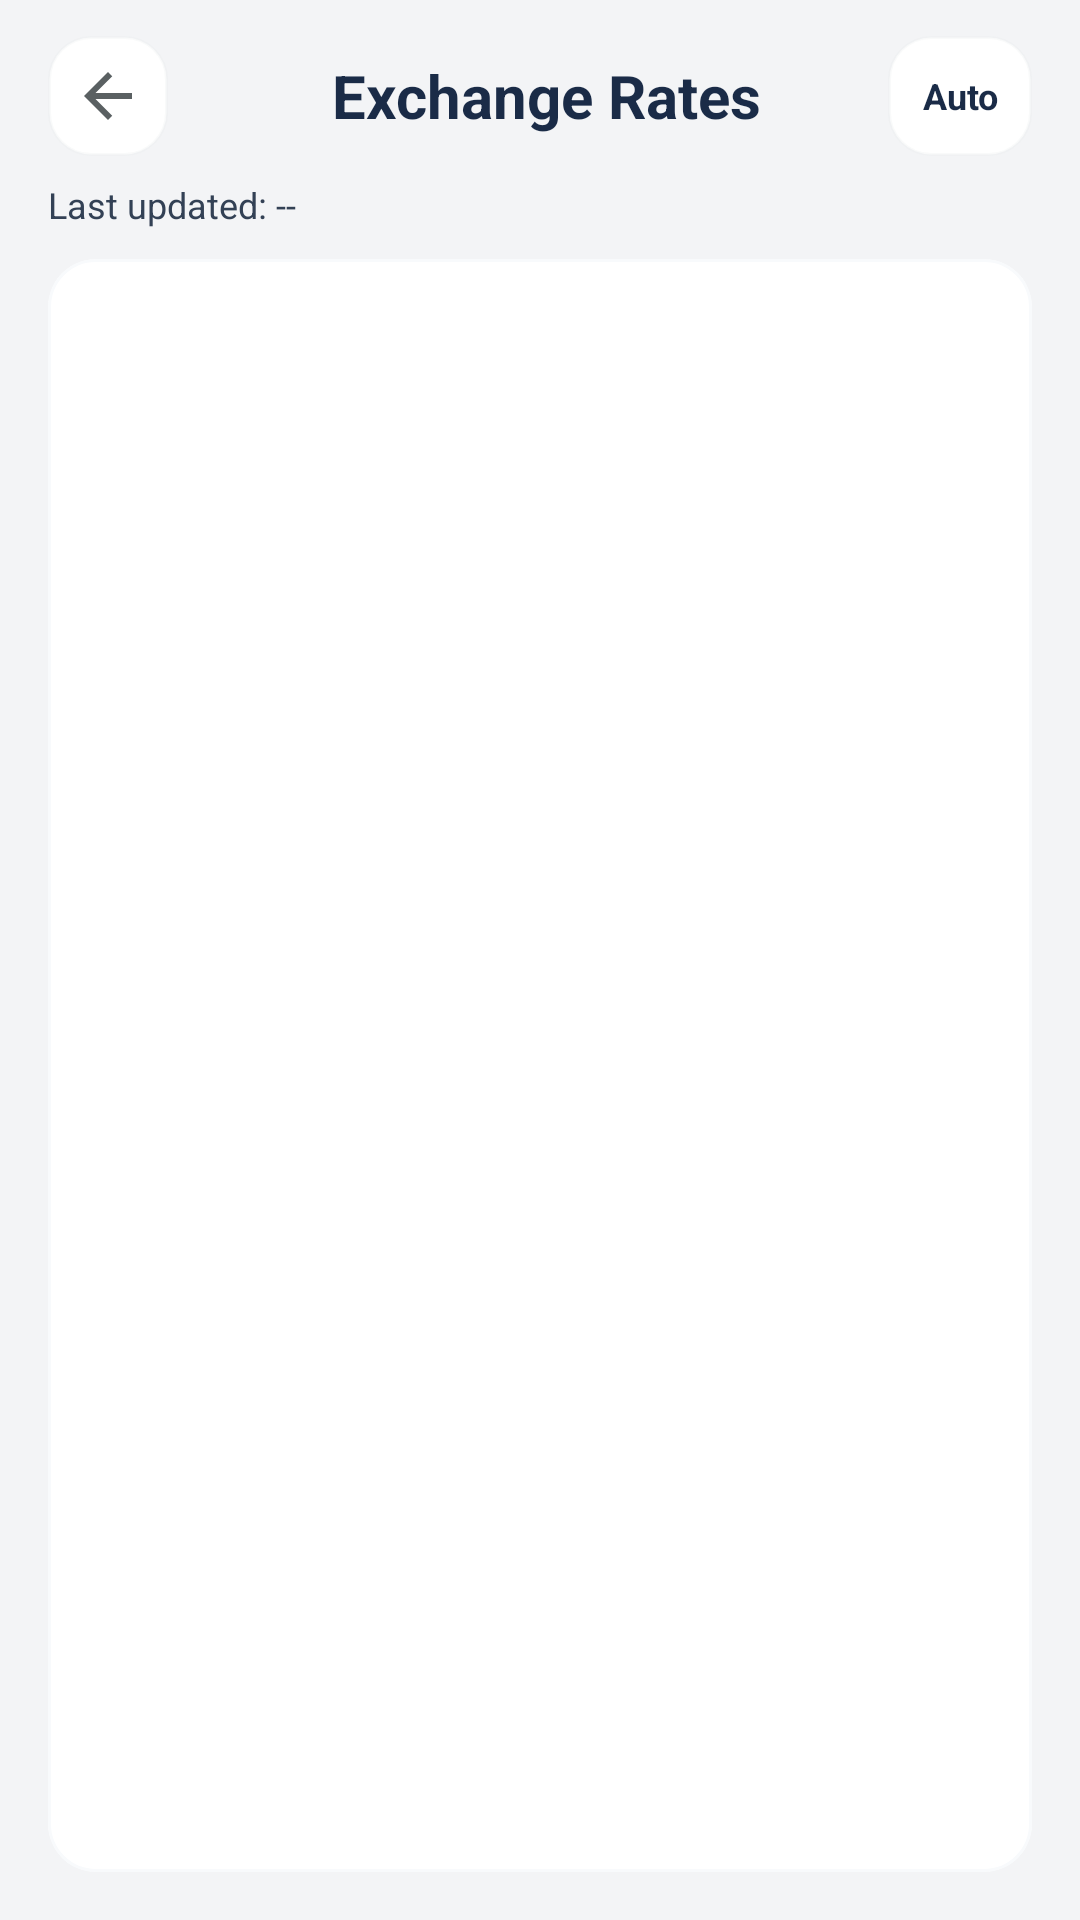

Icon click points for this 1080px×1920px phone screenshot, format (x=x, y=y):
Back: (x=108, y=96)
